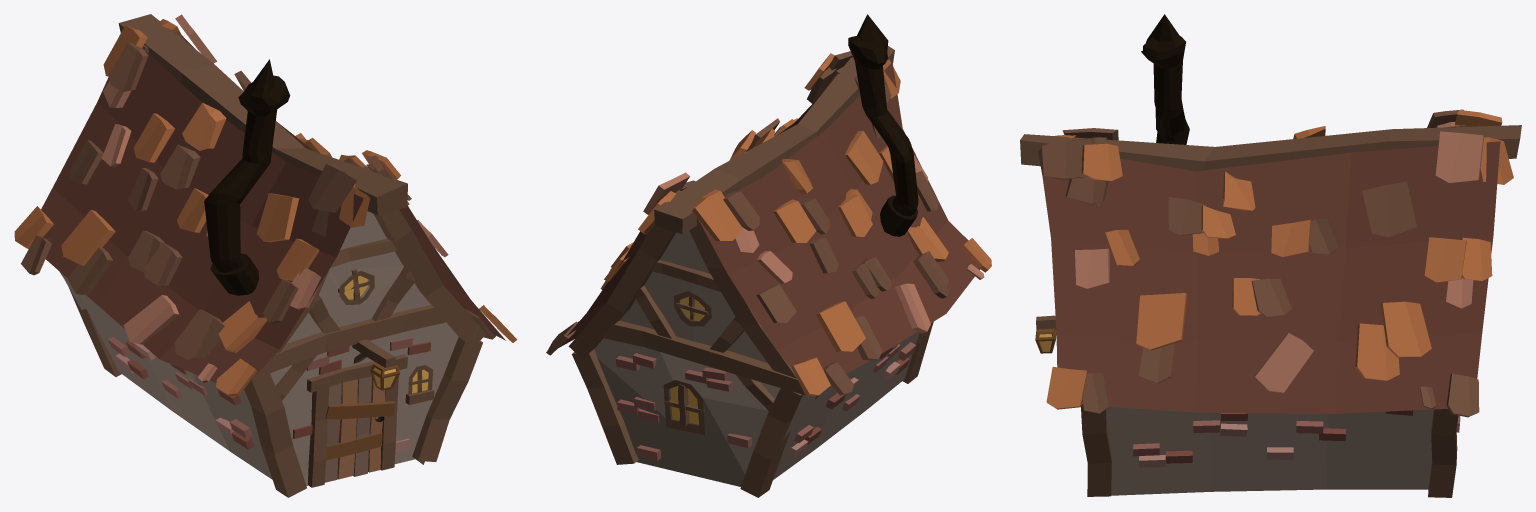
Rendered from low poly cottage with shading 2.fbx.
The picture shows the model from 3 angles, left to right: view 1: azimuth 30°, elevation 25°; view 2: azimuth 150°, elevation 25°; view 3: azimuth 270°, elevation 25°; orthographic projection. The views are drawn at different scales.
Parts seen in each view (by area): view 1: Plane.005; view 2: Plane.005; view 3: Plane.005.
Boxes of the visible parts, box(x1,y1,x2,y2) form: Plane.005: box(14, 14, 517, 497); Plane.005: box(546, 14, 991, 497); Plane.005: box(1020, 14, 1521, 497).
Size of the model in its own units: 390 by 499 by 537.
